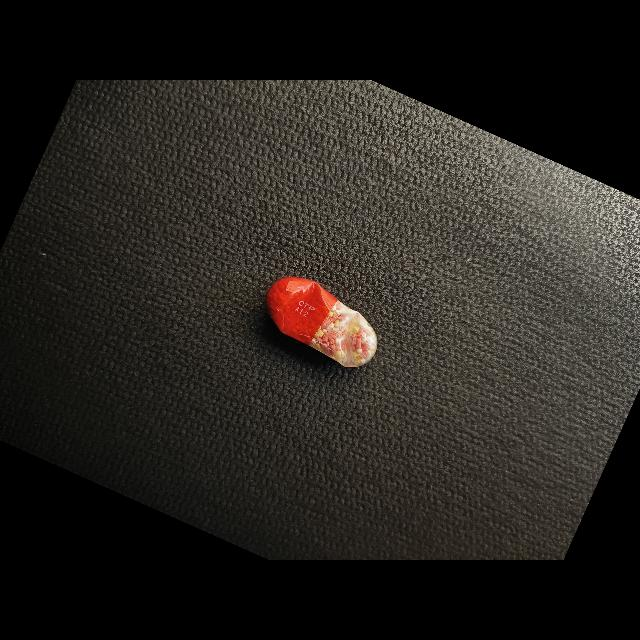Defective Capsule: (266, 277, 378, 367)
